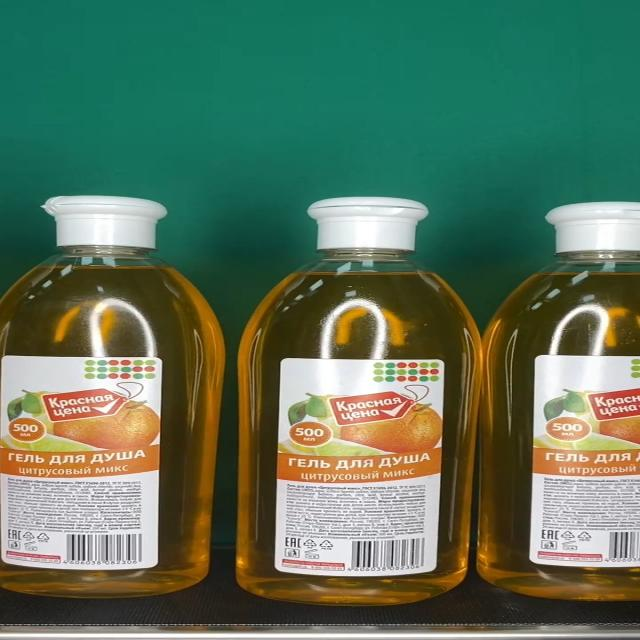Bottle: (238, 197, 483, 605), (0, 196, 227, 598)
Cap: (41, 195, 166, 249), (304, 198, 428, 250)
